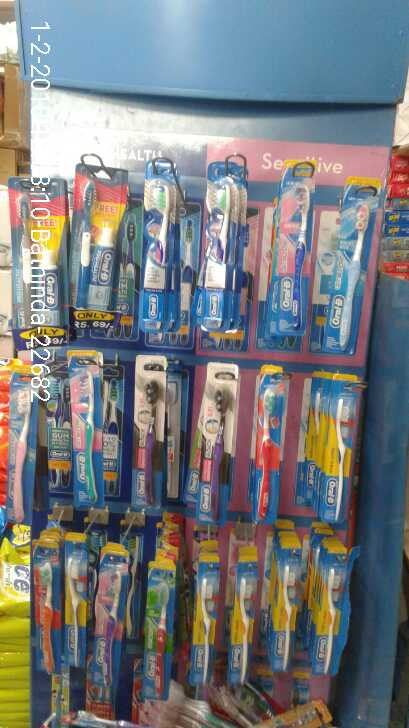beauty: (304, 378, 362, 531), (64, 182, 121, 332), (324, 187, 369, 360), (193, 172, 237, 331), (266, 176, 304, 341), (187, 390, 233, 516), (137, 180, 173, 327), (244, 388, 282, 520)
oralb: (68, 365, 104, 512), (133, 380, 173, 504), (94, 554, 125, 707), (183, 561, 214, 697), (31, 547, 59, 676), (232, 566, 258, 683), (148, 565, 170, 700), (319, 559, 342, 683), (276, 558, 299, 678), (66, 544, 87, 675)
